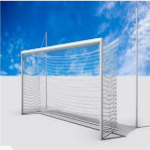goals: (18, 36, 120, 139)
